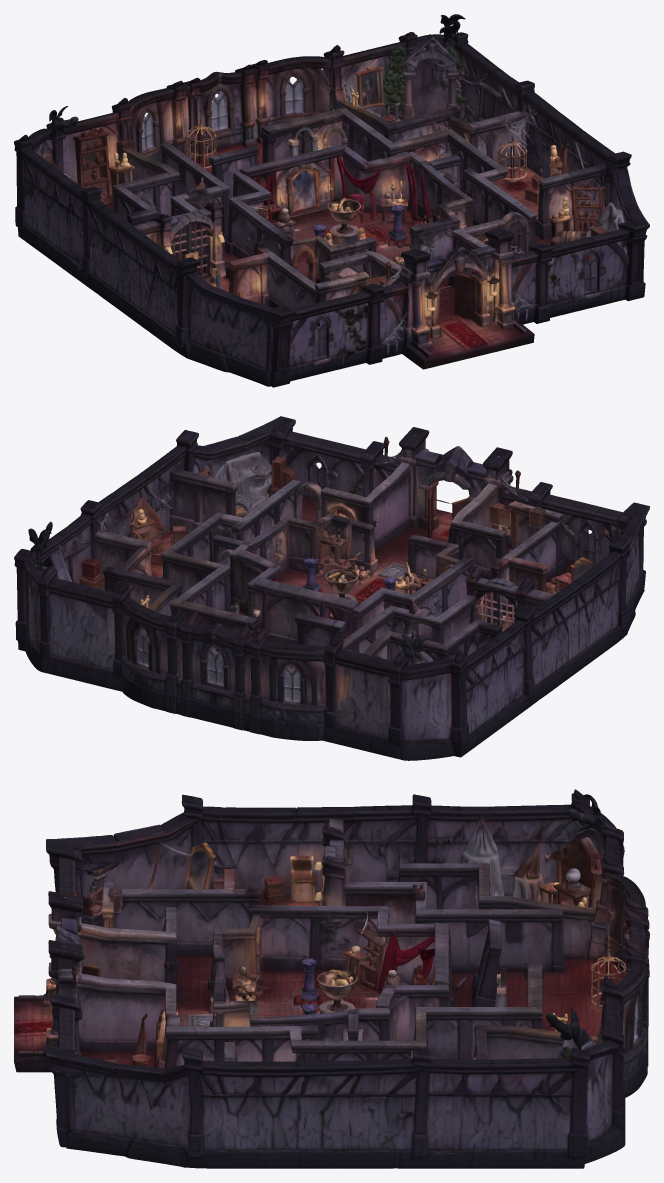
The model's file is maze-of-maddness.glb.
3 renders of one model, top to bottom at view 1: azimuth 30°, elevation 25°; view 2: azimuth 150°, elevation 25°; view 3: azimuth 270°, elevation 25°, orthographic. The views are drawn at different scales.
Visible parts, largest first — view 1: model; view 2: model; view 3: model.
Boxes of the visible parts, bbox=[...] form: model: bbox=[14, 14, 649, 387]; model: bbox=[14, 416, 649, 760]; model: bbox=[14, 789, 649, 1168].
Size of the model in its own units: 1.84 by 0.4821 by 1.9.
1 material, 1 textured.
